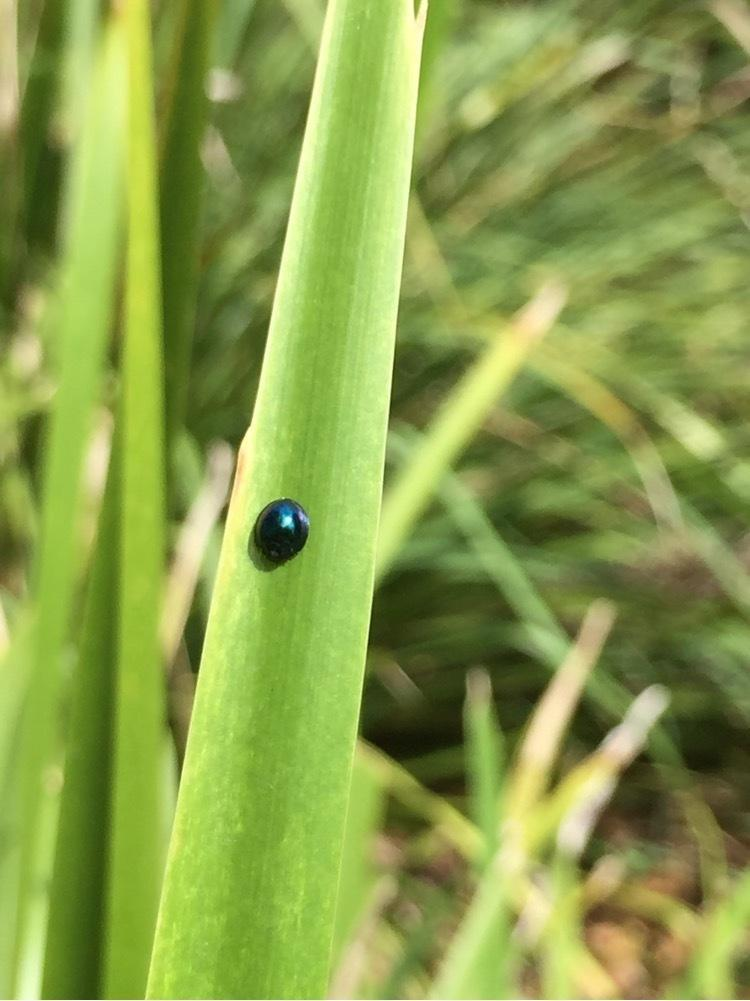ladybug: (254, 497, 313, 568)
